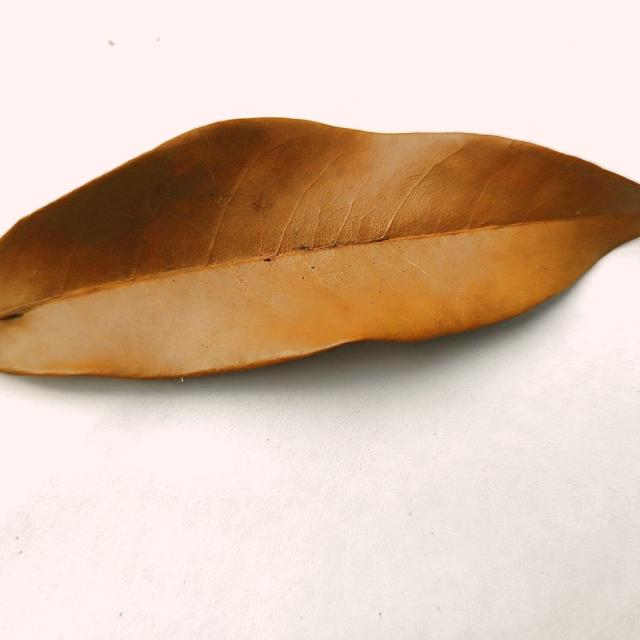Dry_Leaf-Lychee: (0, 118, 639, 381)
